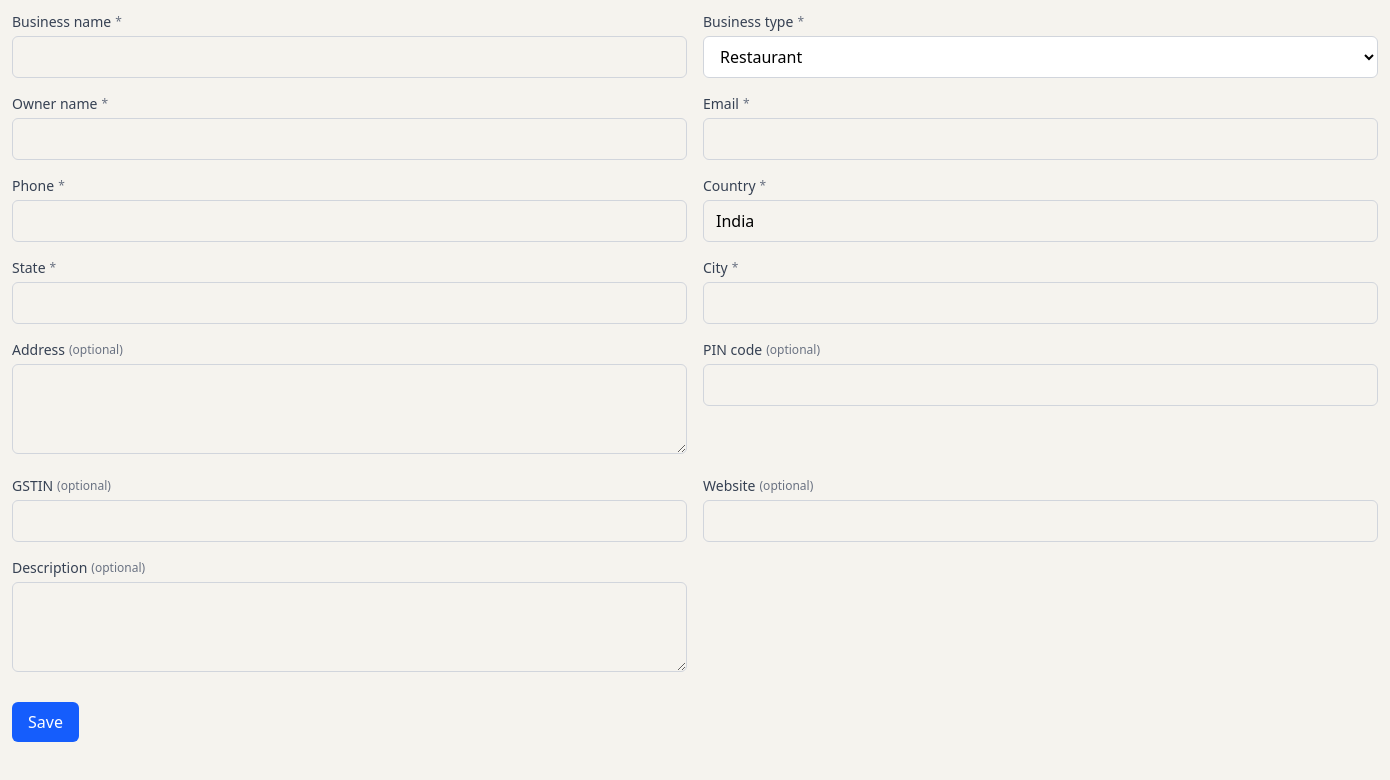
BusinessForm › shows a name error and does not submit an empty form
The width and height of the screenshot is (1390, 780).
Step 1. Click the button "Save" → (45, 722), box [12,702,79,742]
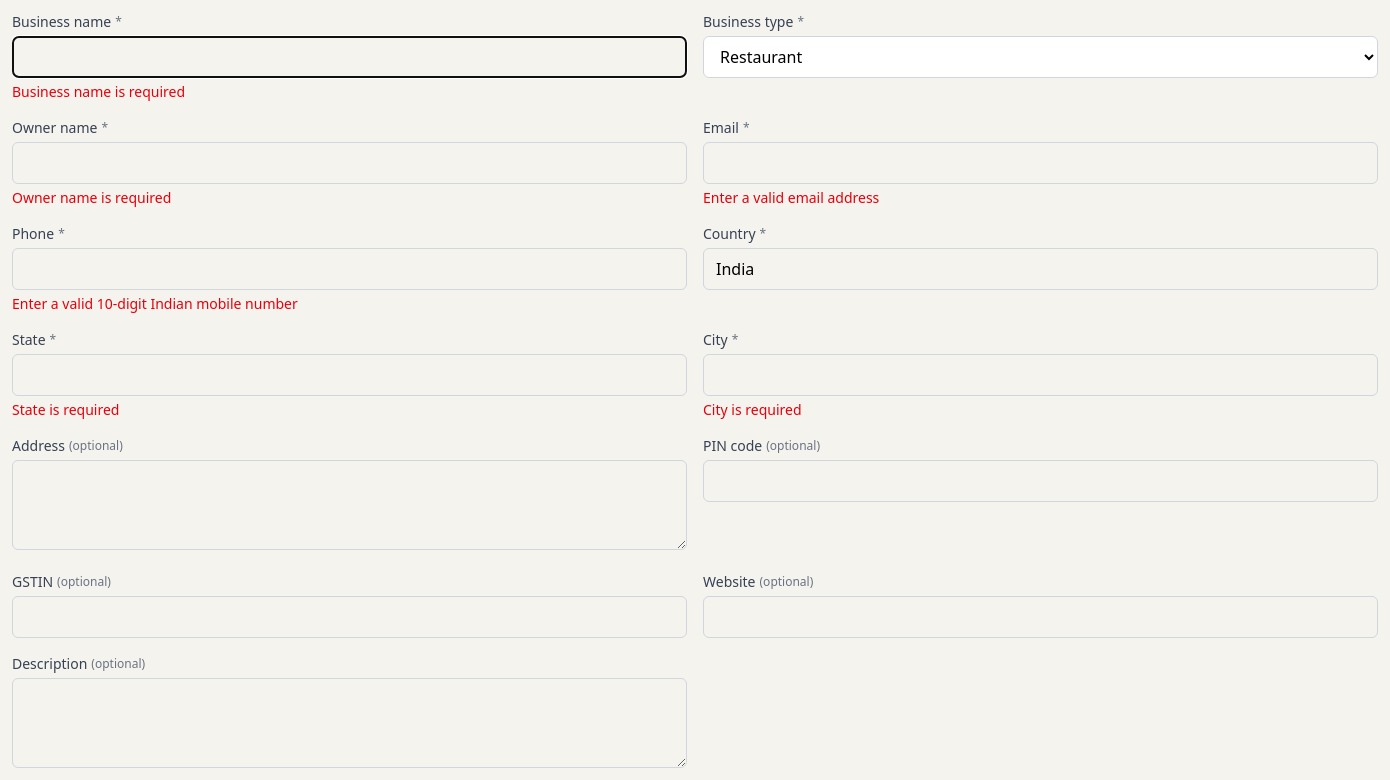
Expected: the text "Business name is required" is shown, [12,82,185,101]
